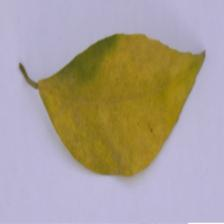greening: (39, 19, 201, 164)
